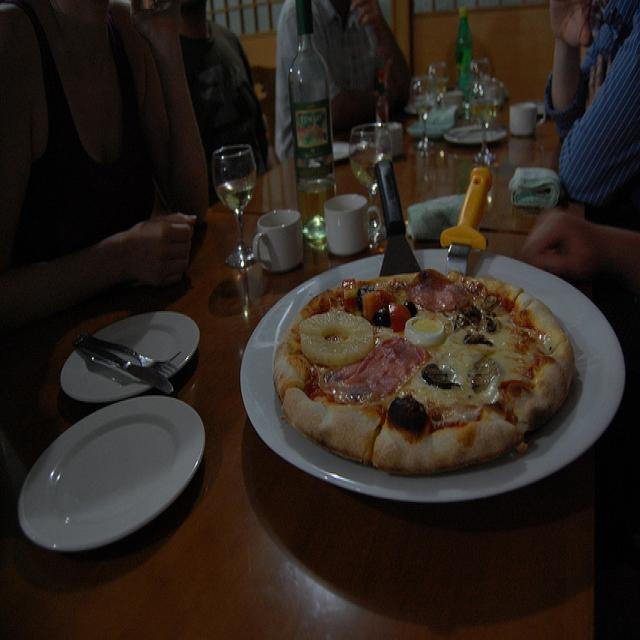Bottle: (286, 0, 338, 214), (445, 0, 476, 78)
Cup: (209, 136, 258, 268), (348, 120, 401, 238), (318, 189, 378, 263), (251, 209, 307, 283), (408, 70, 449, 155), (468, 82, 506, 163), (509, 96, 554, 132)
